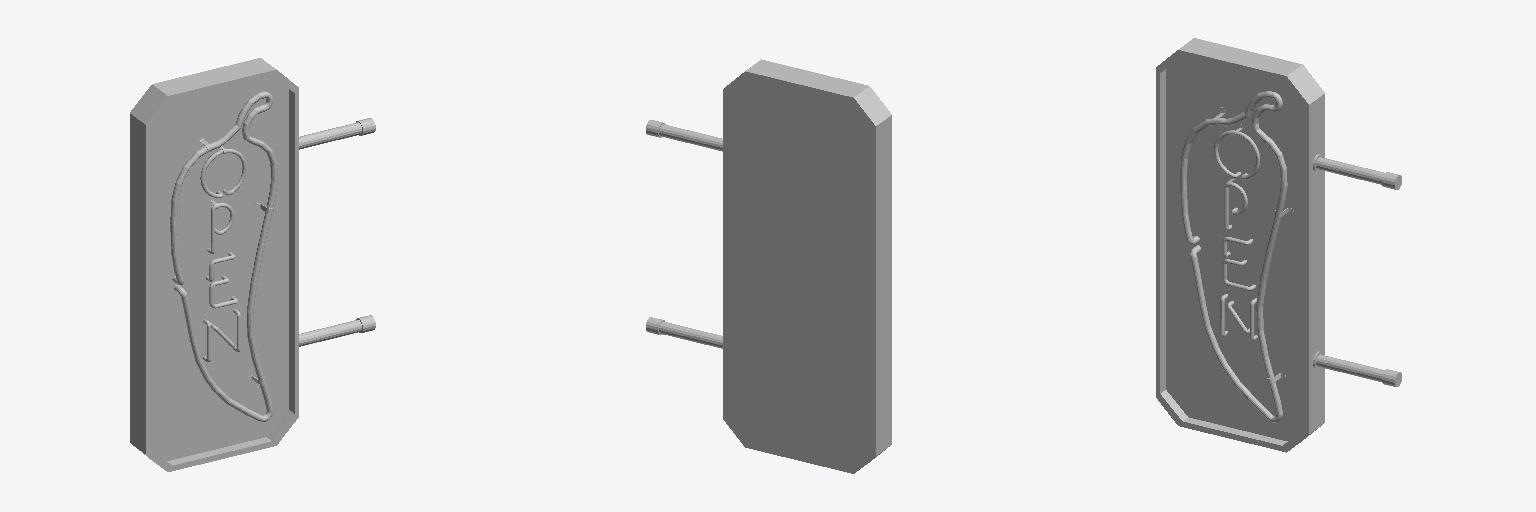
The model's file is neon_sign.obj.
3 views of the same model, side by side, from view 1: azimuth 30°, elevation 25°; view 2: azimuth 150°, elevation 25°; view 3: azimuth 330°, elevation 25° (orthographic).
Visible parts, largest first — view 1: Low.002_Cylinder.027; view 2: Low.002_Cylinder.027; view 3: Low.002_Cylinder.027.
Part boxes in pixels (bbox=[...]): Low.002_Cylinder.027: bbox=[130, 58, 375, 471]; Low.002_Cylinder.027: bbox=[646, 59, 891, 473]; Low.002_Cylinder.027: bbox=[1156, 38, 1401, 452].
Bounding box in the file's own units: 6.48 × 9.95 × 0.8857.